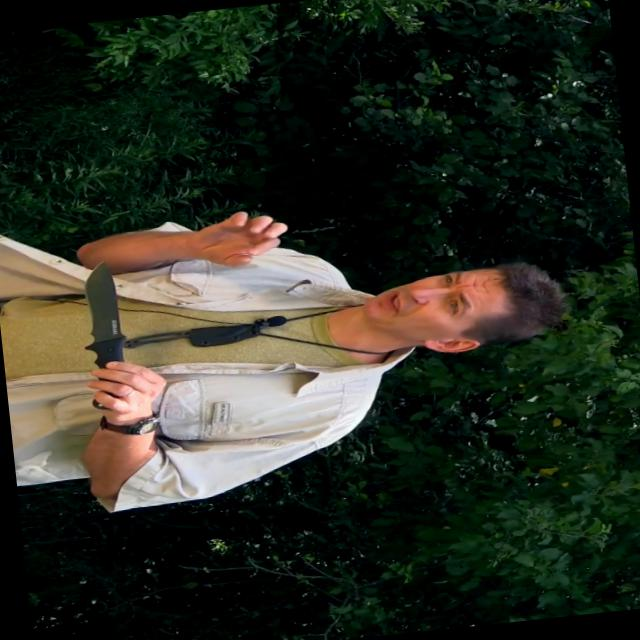knife: (75, 252, 175, 413)
